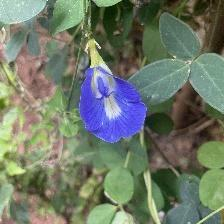shankupushpam: (77, 65, 152, 145)
